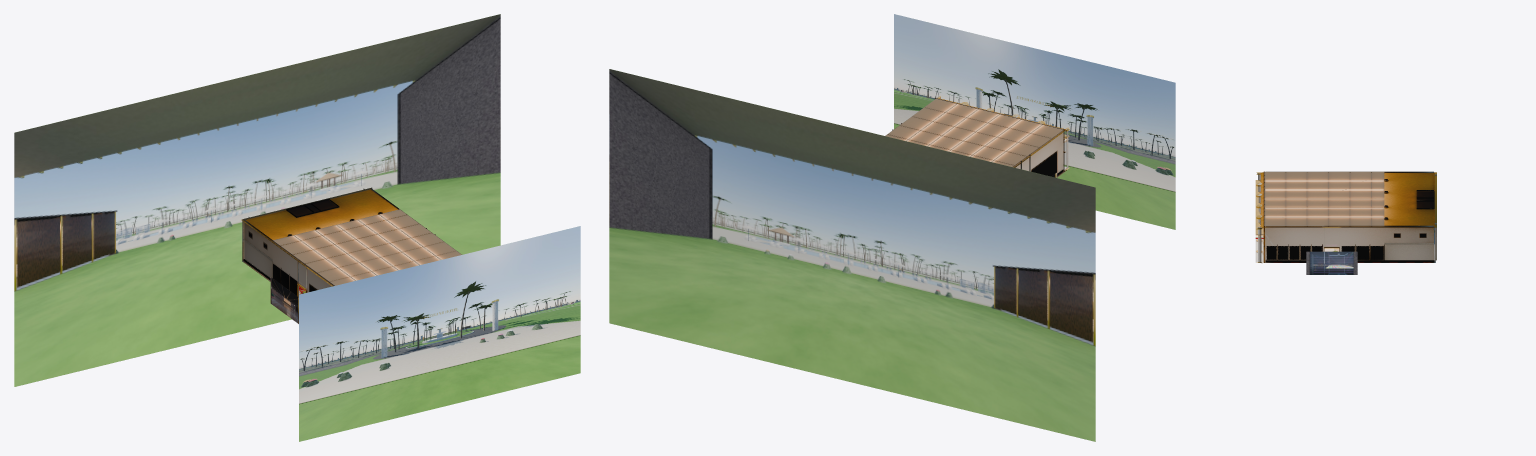
Rendered from int_eko_lobby.glb.
3 renders of one model, left to right at view 1: azimuth 30°, elevation 25°; view 2: azimuth 150°, elevation 25°; view 3: azimuth 270°, elevation 25°, orthographic. The views are drawn at different scales.
Parts seen in each view (by area): view 1: VIEW_back, VIEW_front, ROOM, VIEW_wine; view 2: VIEW_back, VIEW_front, ROOM; view 3: ROOM, VIEW_club.
Boxes of the visible parts, box(x1,y1,x2,y2) form: VIEW_back: box(14, 14, 500, 386); VIEW_front: box(299, 226, 580, 441); ROOM: box(241, 187, 461, 296); VIEW_wine: box(270, 277, 298, 323); VIEW_back: box(609, 69, 1095, 441); VIEW_front: box(894, 14, 1175, 229); ROOM: box(885, 96, 1069, 176); ROOM: box(1255, 171, 1436, 262); VIEW_club: box(1306, 251, 1357, 274).
Bounding box in the file's own units: 114 × 57 × 74.
6 materials, 5 textured.
